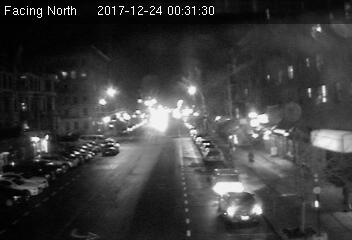car: (219, 191, 266, 226), (211, 168, 242, 194), (204, 147, 222, 162), (101, 141, 119, 155)
